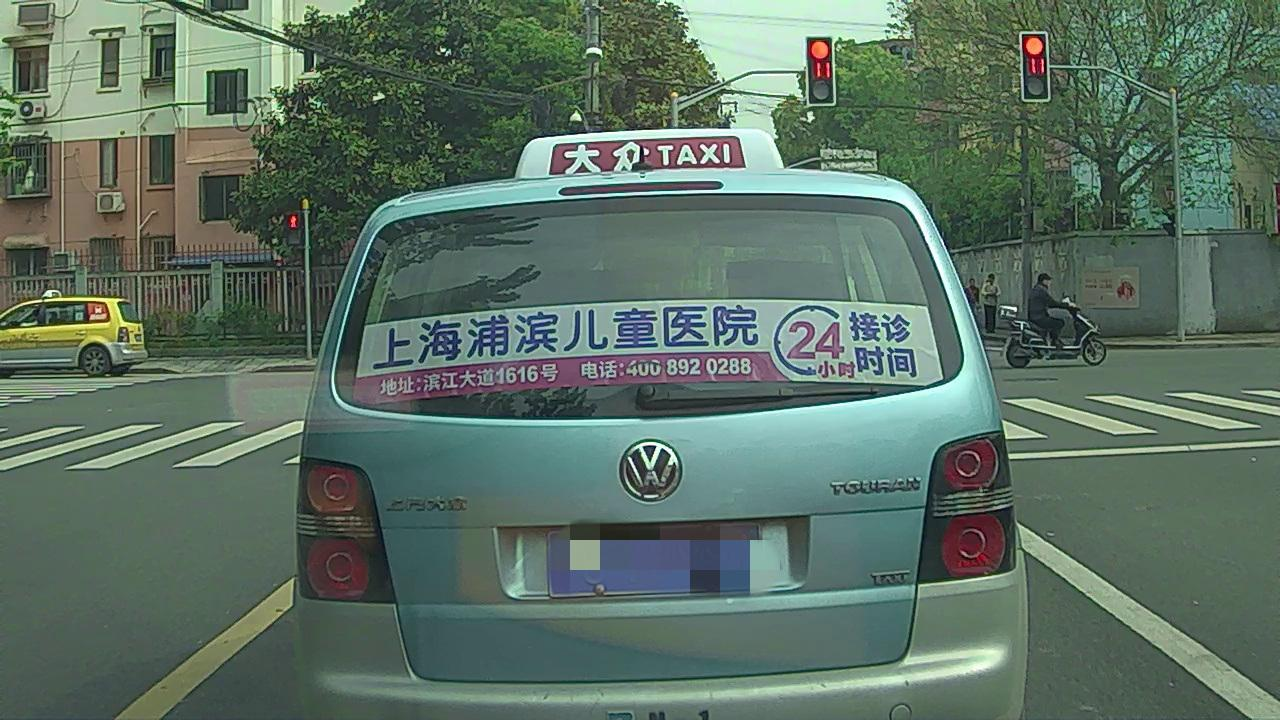traffic_light: (1022, 30, 1051, 100), (808, 34, 836, 106)
